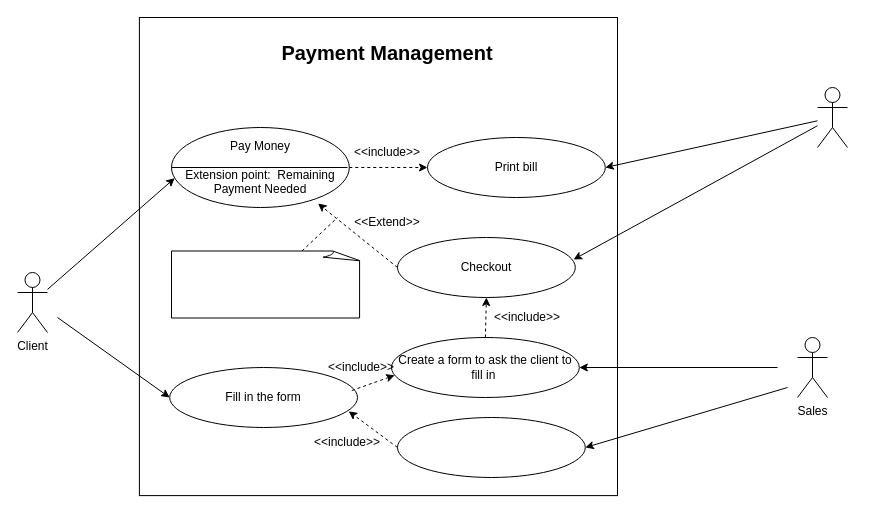
Image size: 883x514. Some labels were removed from this diagram. Here are the shapes that lost their labels. From the top down, the centre of each, then its label:
At (x=832, y=117): "Receptionist".
At (x=266, y=284): "Condition: (Fully paid) Extension: Remaining Money Needed".
At (x=490, y=447): "See client's expericence".
